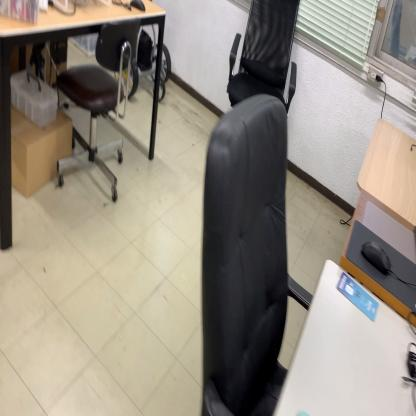chair: (200, 92, 314, 416), (56, 17, 141, 202), (226, 0, 300, 120)
